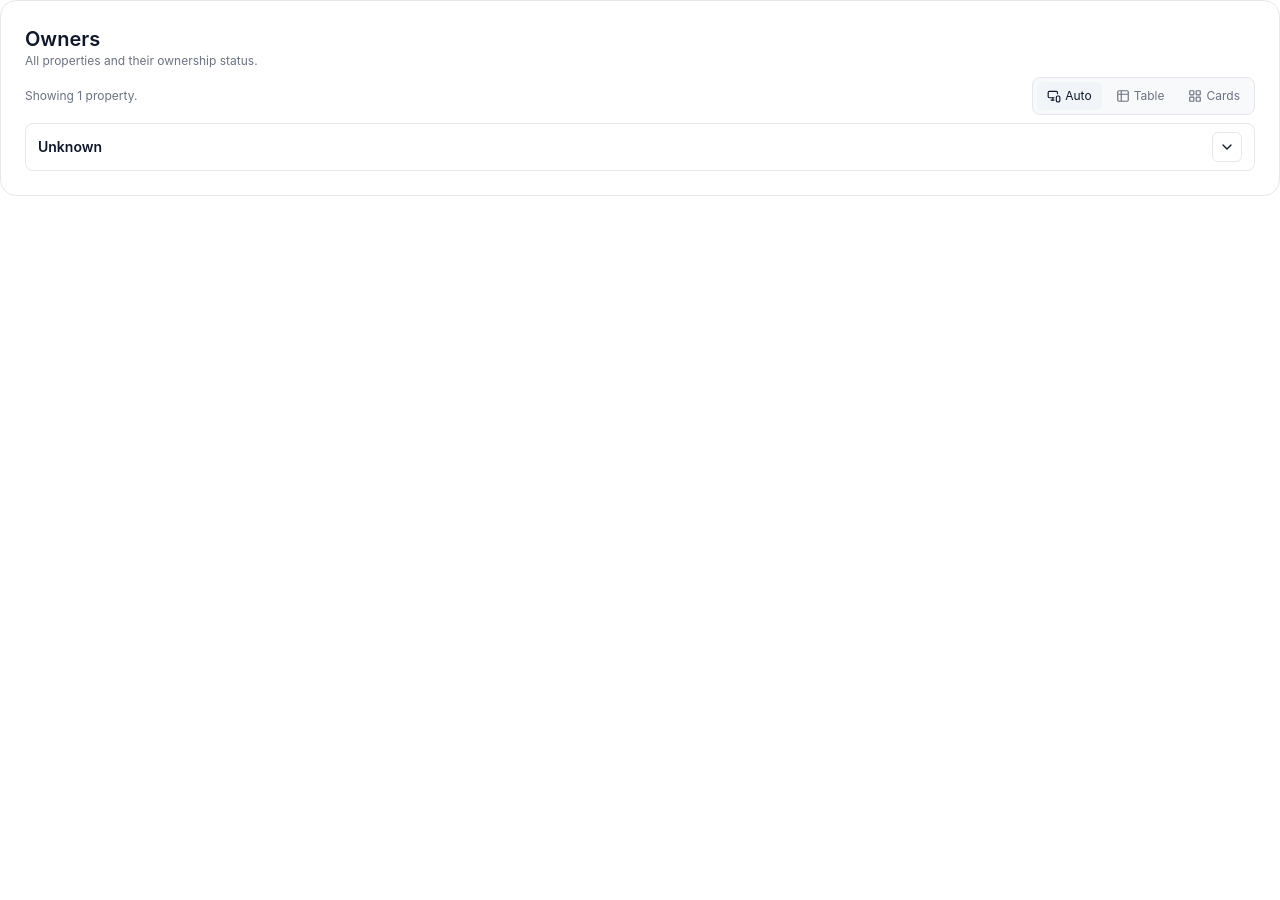
Test case: OwnersManager – owner modal flows › edit owner: modal opens pre-filled with current owner data
The image size is (1280, 900).
What coordinates should you click on to do the following:
click the button "Unknown"
I would click on:
 (70, 146)
Its box is [25, 123, 1255, 171].
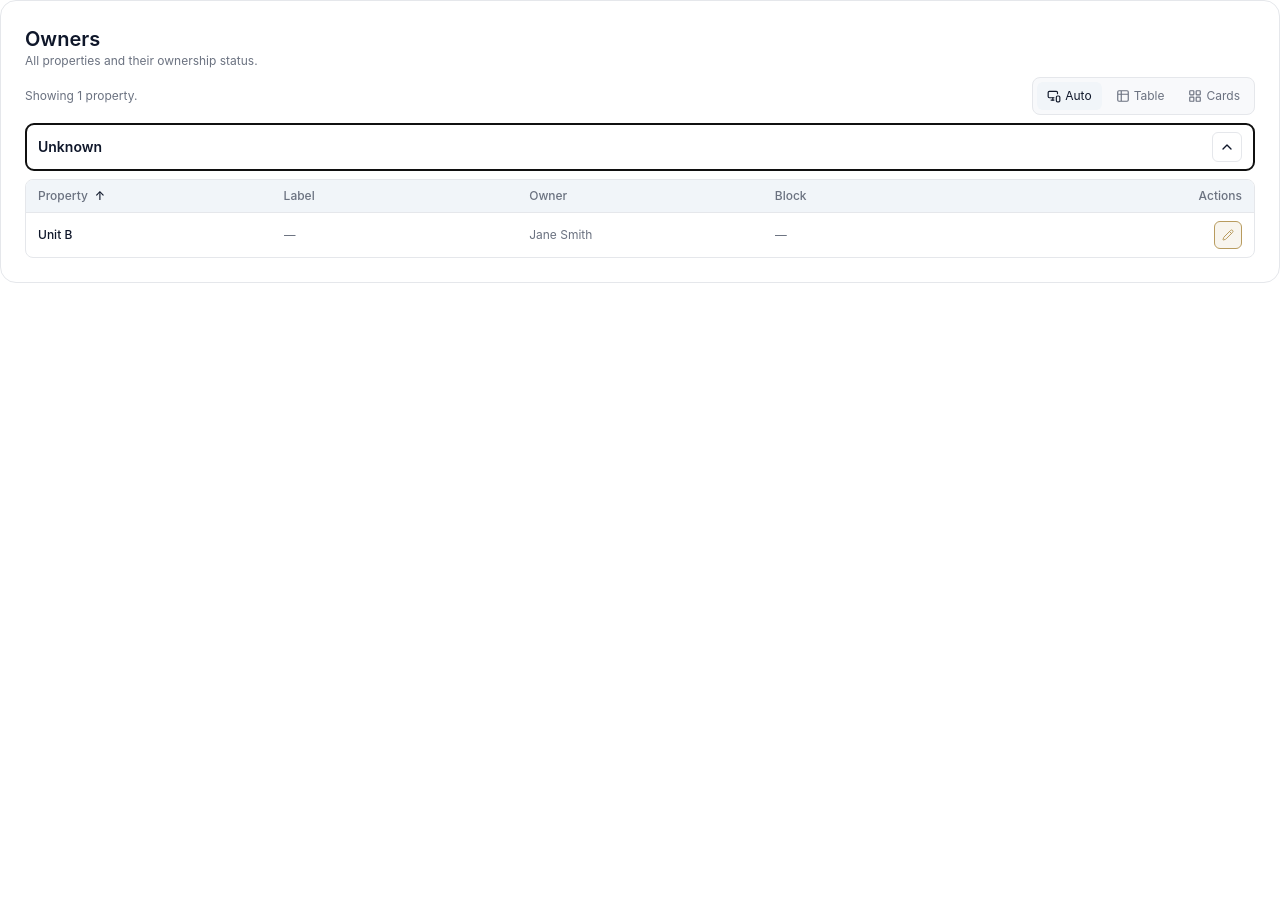
What coordinates should you click on to do the following:
click the button named "Edit owner"
I would click on:
 (1228, 235)
Its box is [1214, 221, 1242, 249].
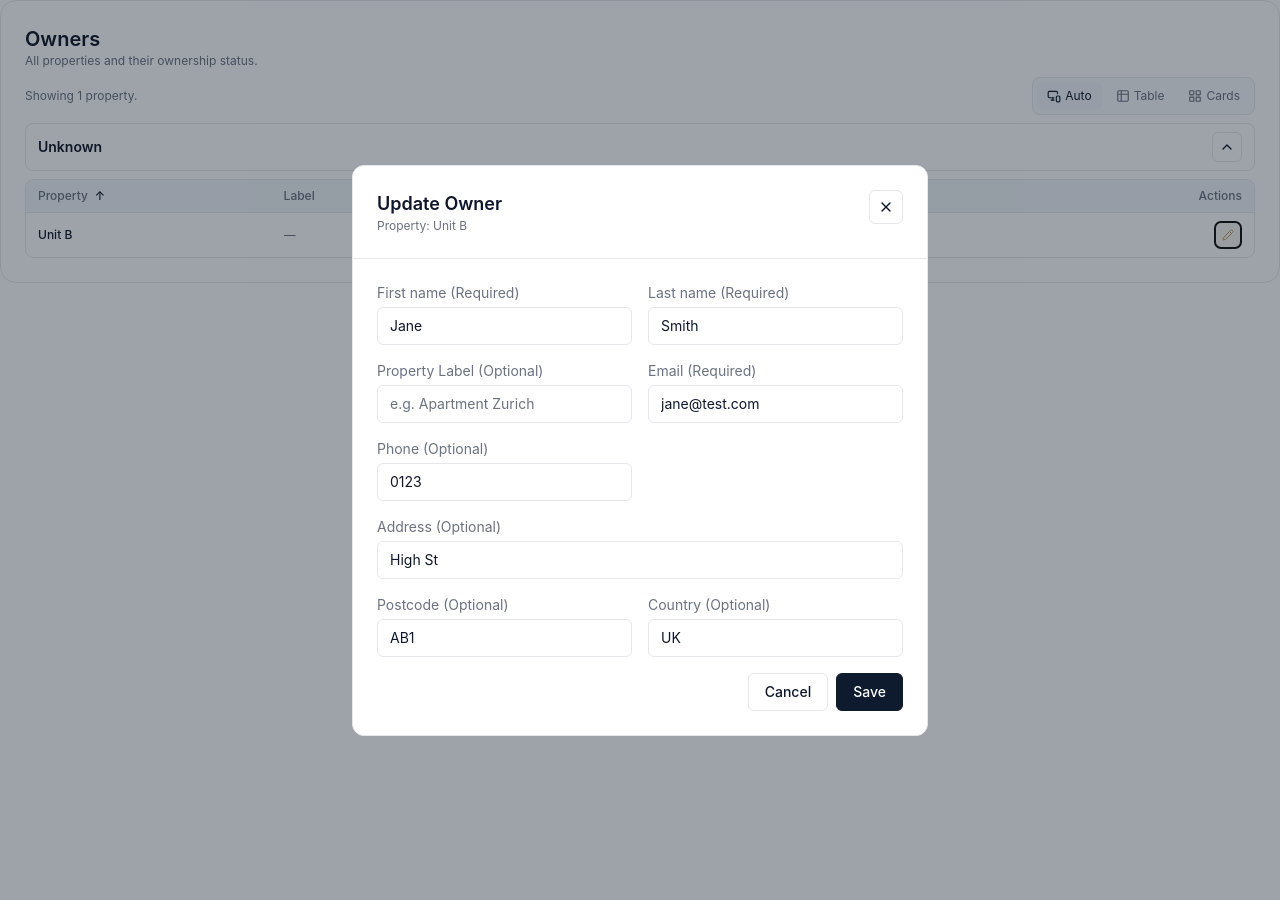
Now the field with placeholder "Ana" below "First name (Required)" holds "Jane", box [377, 306, 632, 344]
Now the field with placeholder "Owner" below "Last name (Required)" holds "Smith", box [648, 306, 903, 344]
Now the field with placeholder "owner@example.com" below "Email (Required)" holds "jane@test.com", box [648, 384, 903, 422]
